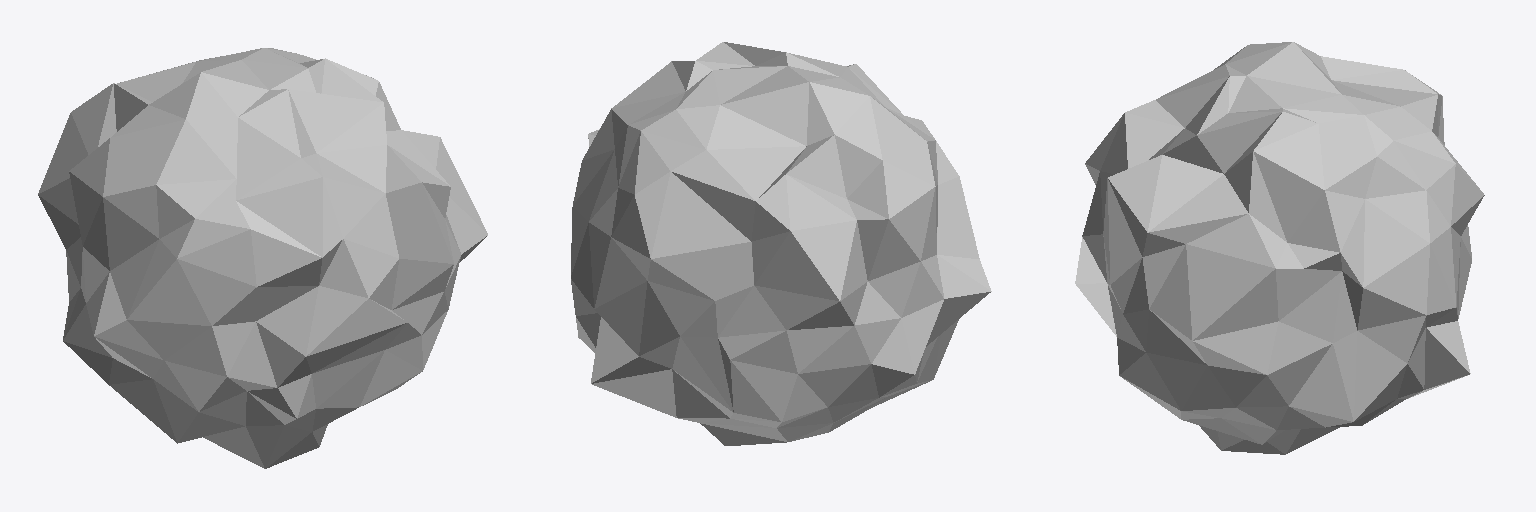
Rendered from fire_000037.obj.
3 renders of one model, left to right at view 1: azimuth 30°, elevation 25°; view 2: azimuth 150°, elevation 25°; view 3: azimuth 270°, elevation 25°, orthographic.
Parts seen in each view (by area): view 1: Icosphere; view 2: Icosphere; view 3: Icosphere.
Part boxes in pixels (bbox=[...]): Icosphere: bbox=[38, 48, 487, 468]; Icosphere: bbox=[571, 42, 991, 445]; Icosphere: bbox=[1075, 42, 1484, 454].
Size of the model in its own units: 1.11 by 1.05 by 1.02.